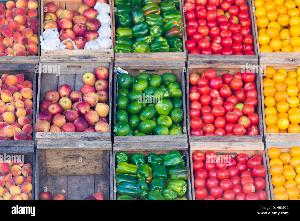apple: (32, 63, 109, 137), (31, 0, 112, 70)
bell_pepper: (113, 141, 191, 201), (116, 0, 184, 66)
orange: (260, 64, 300, 138), (255, 0, 300, 56), (268, 141, 300, 201)
peach: (0, 67, 39, 140), (0, 0, 40, 58), (0, 148, 36, 202)
tomato: (186, 63, 266, 138), (189, 146, 268, 200), (188, 0, 256, 56)
